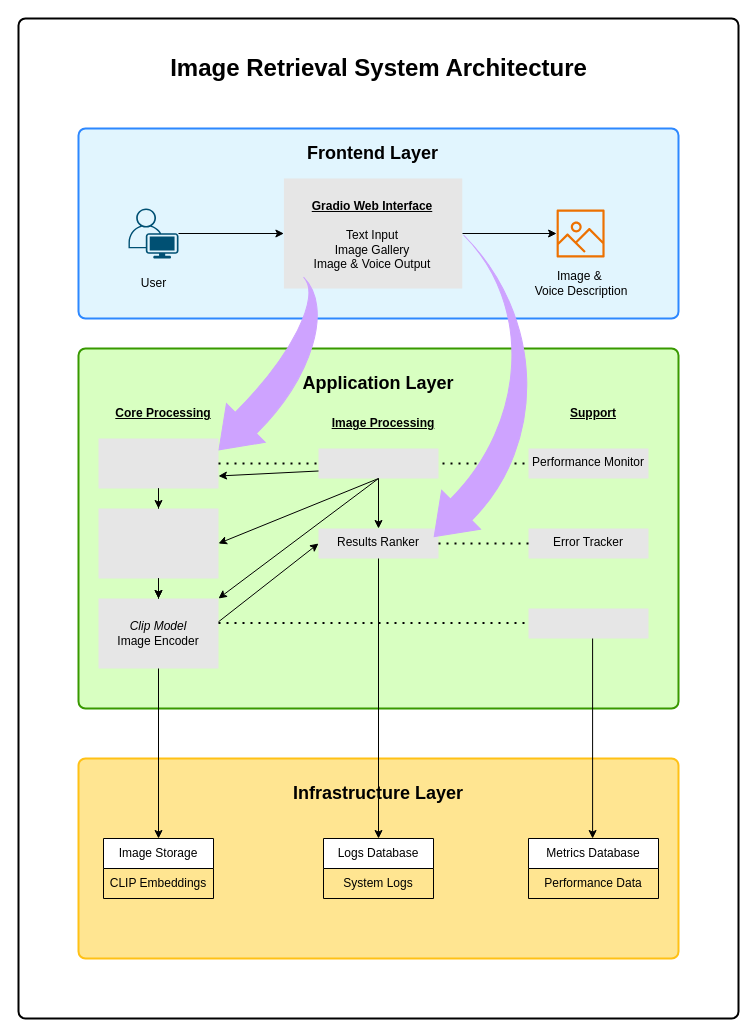
Some shapes in this 756 by 1036 pixel diagram are drawn without their labels. The shapes that lost their labels are listed below. From the top down, each one's centre as x and y in pixels, then its label:
(x=158, y=463): Query Validator
(x=378, y=463): Testing
(x=158, y=543): Clip Model Text Encoder
(x=588, y=623): Resource Manager
